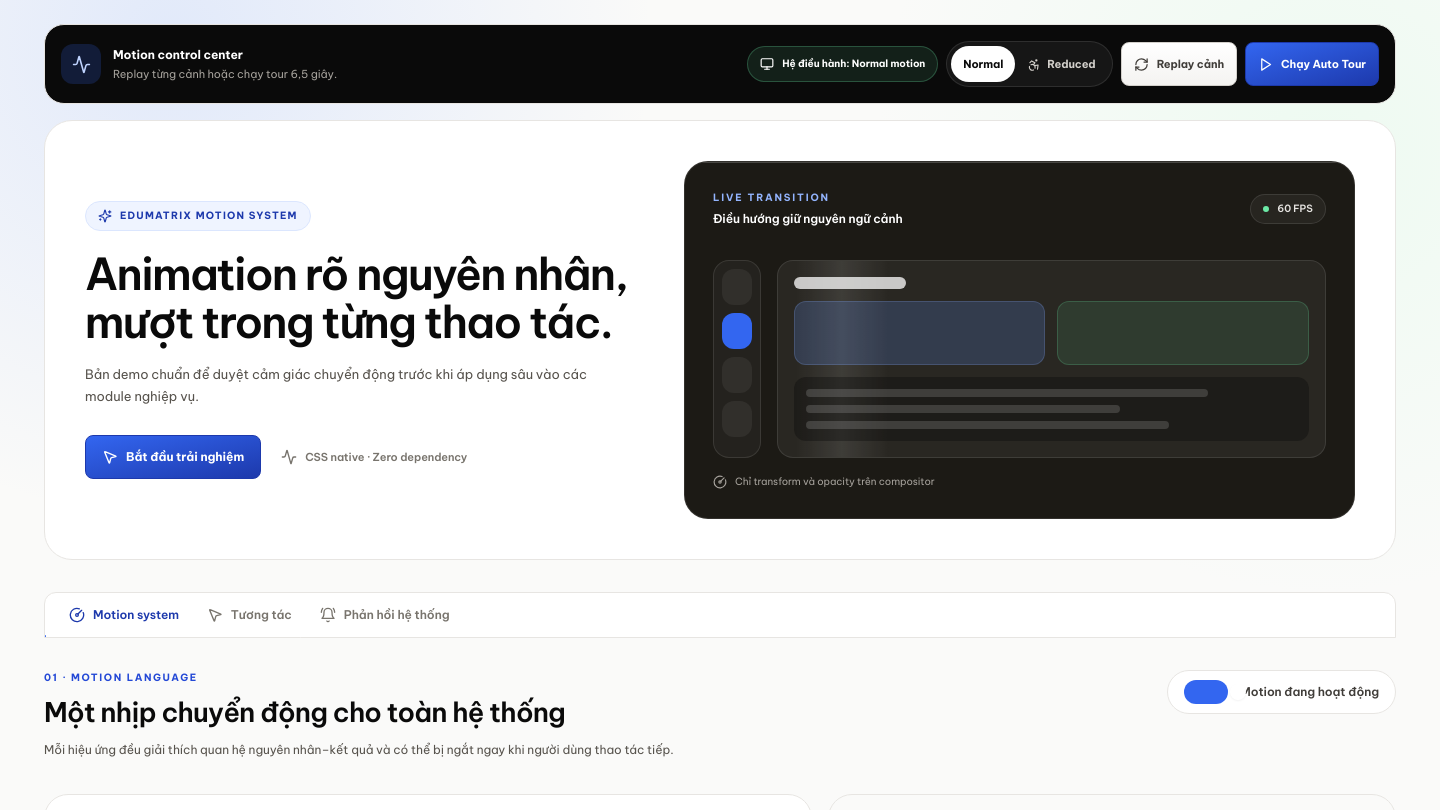
Test: MotionDemoPage › starts and stops the guided auto tour
Click the button "Chạy Auto Tour": {"x": 1312, "y": 64} x1=1245 y1=42 x2=1379 y2=86
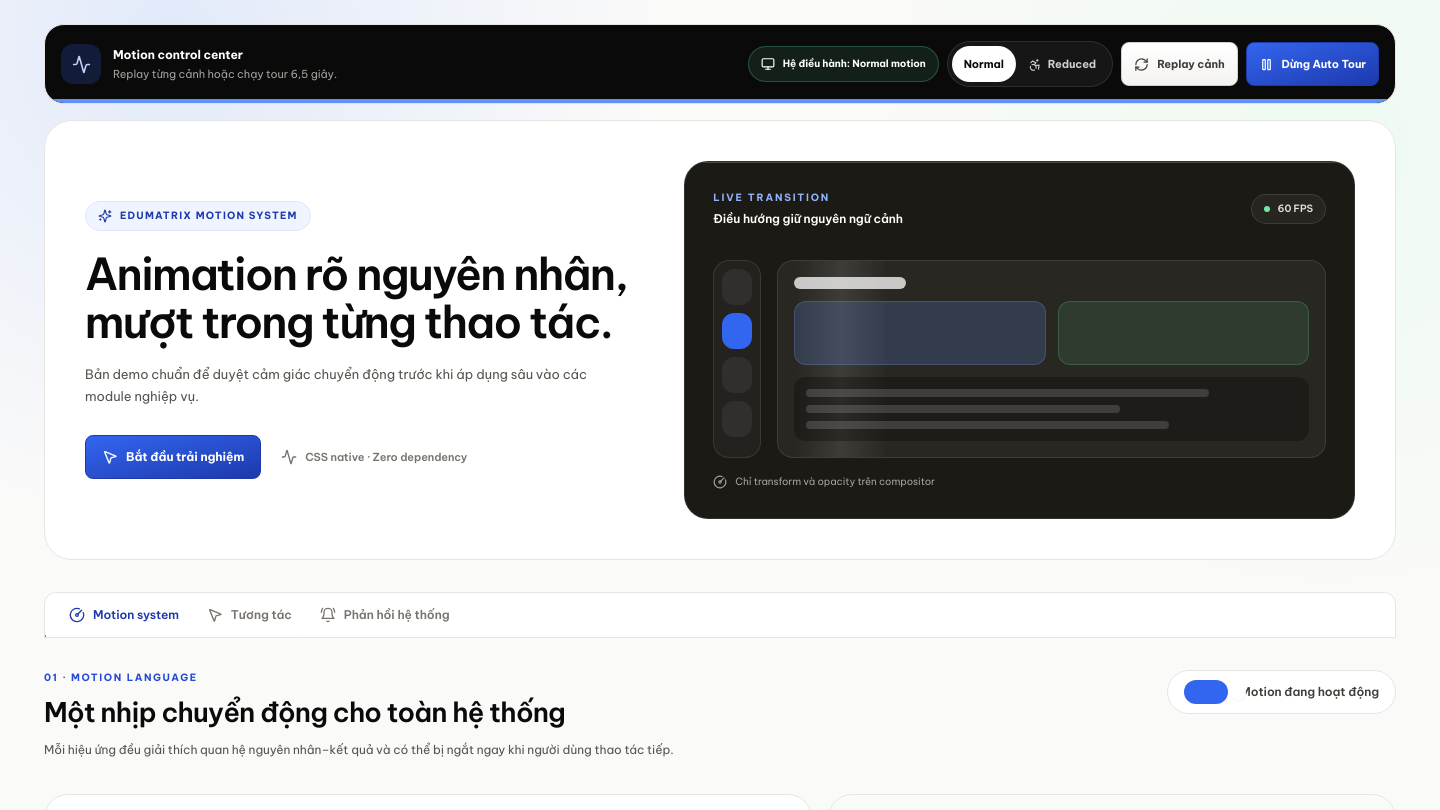
Check: the button "Dừng Auto Tour" is shown
Check: the element with class "motion-demo-tour-progress" is shown, box x1=45 y1=99 x2=1395 y2=103
Click the button "Dừng Auto Tour": {"x": 1312, "y": 64} x1=1246 y1=42 x2=1379 y2=86
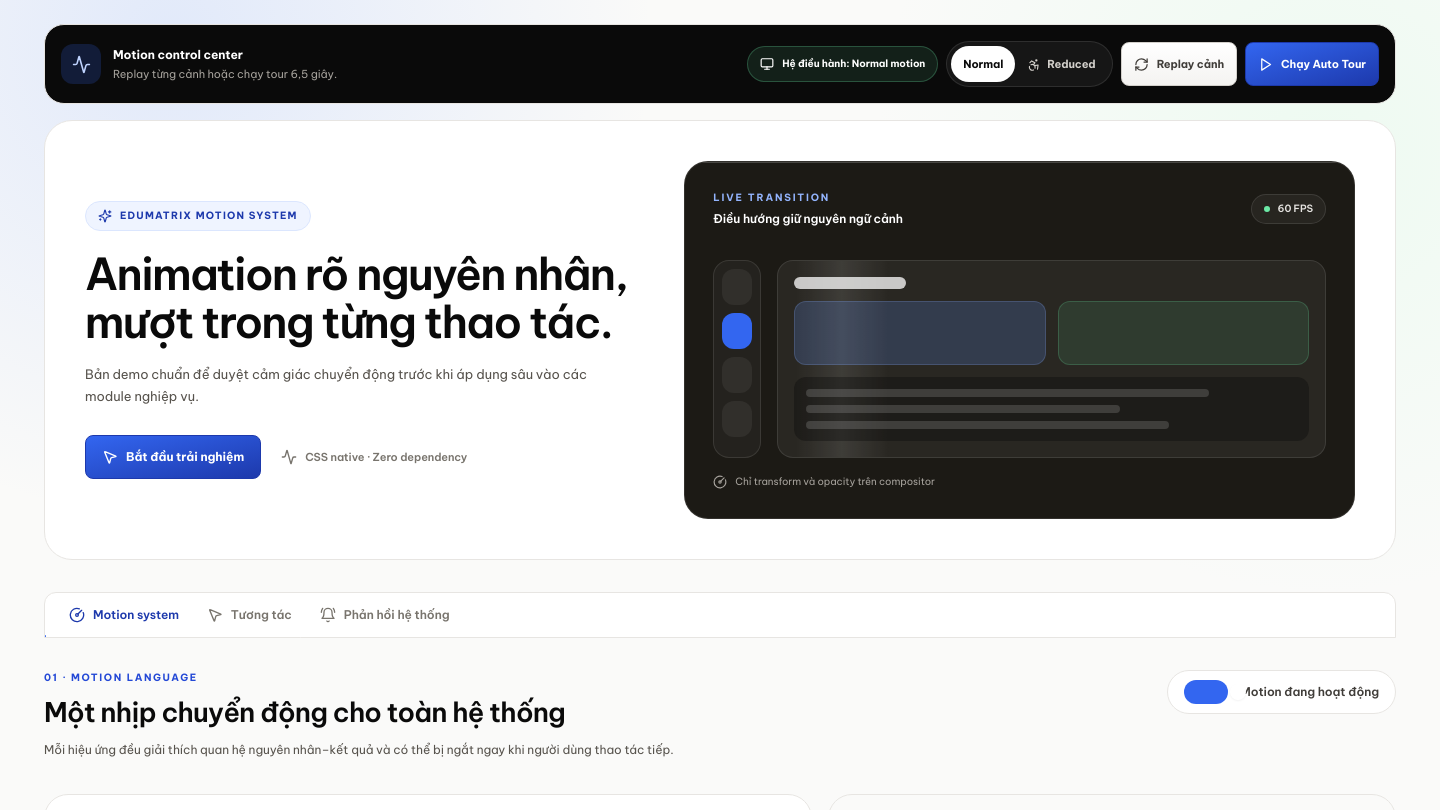
Check: the button "Chạy Auto Tour" is shown, box x1=1245 y1=42 x2=1379 y2=86
